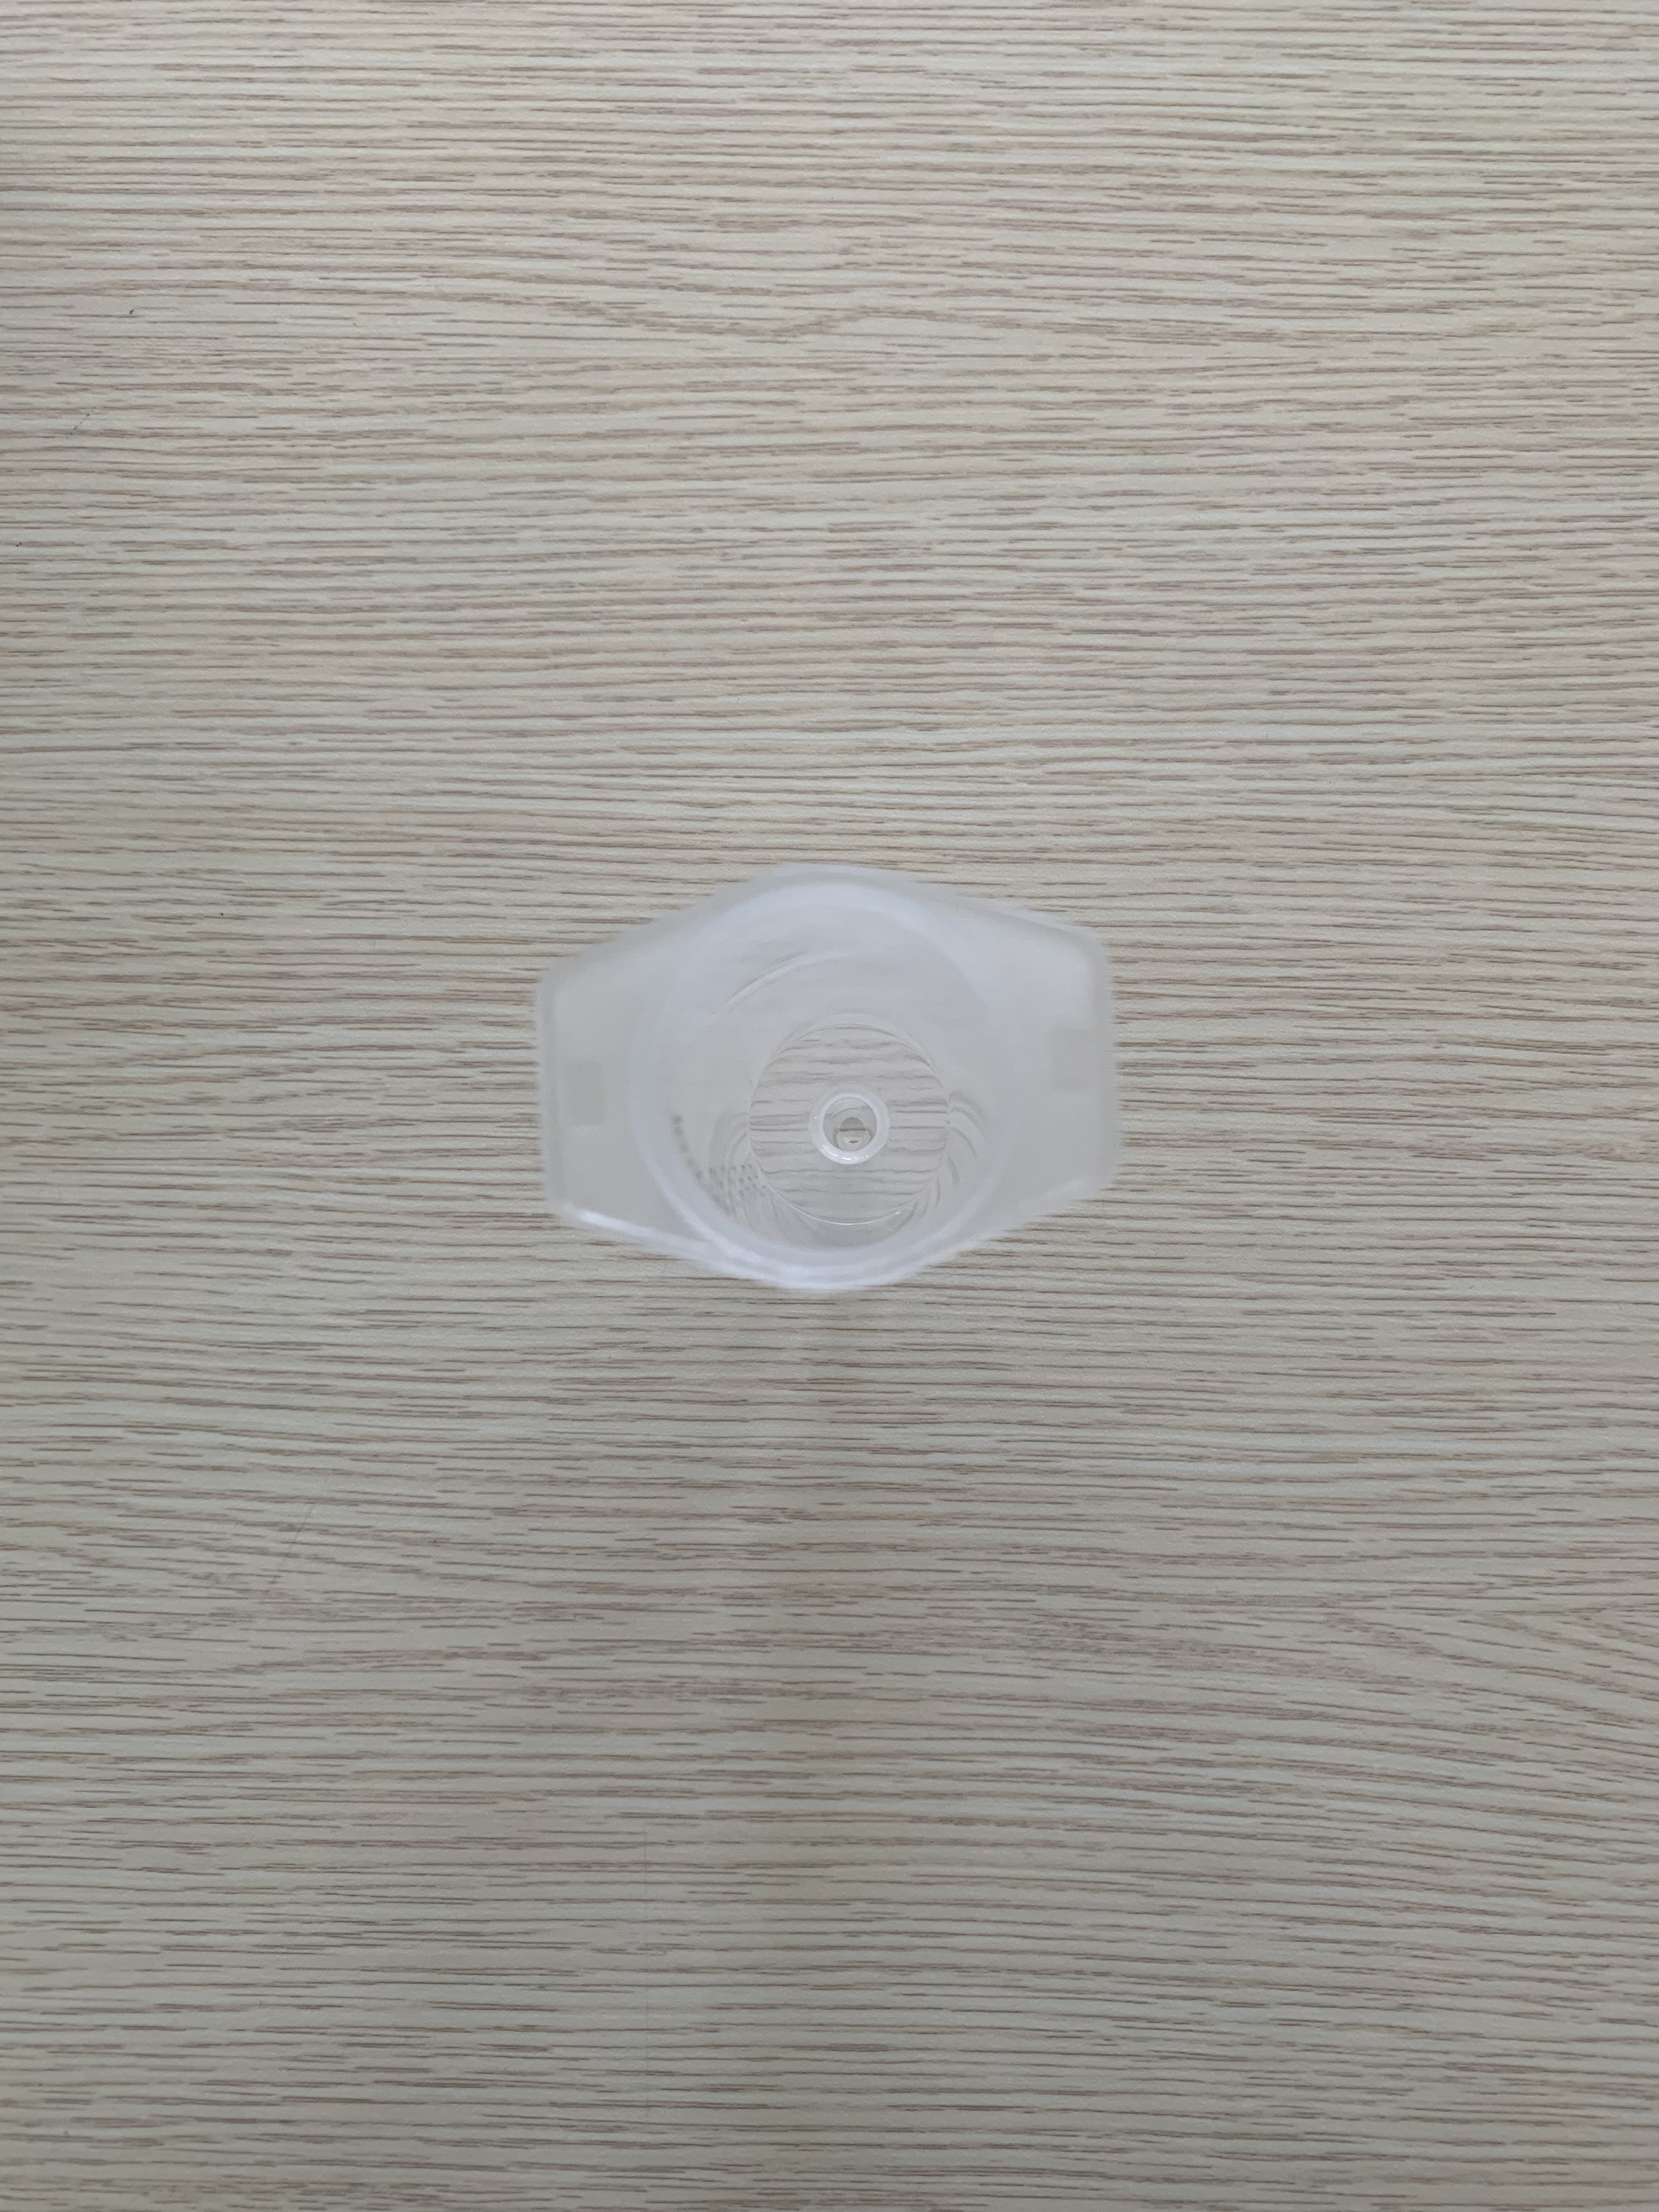syringe: (518, 850, 1134, 1287)
